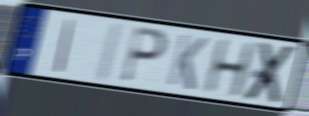H: (201, 37, 258, 100)
I: (93, 21, 125, 84), (53, 17, 76, 75)
K: (165, 32, 210, 93)
P: (118, 25, 169, 86)
X: (241, 41, 300, 106)
